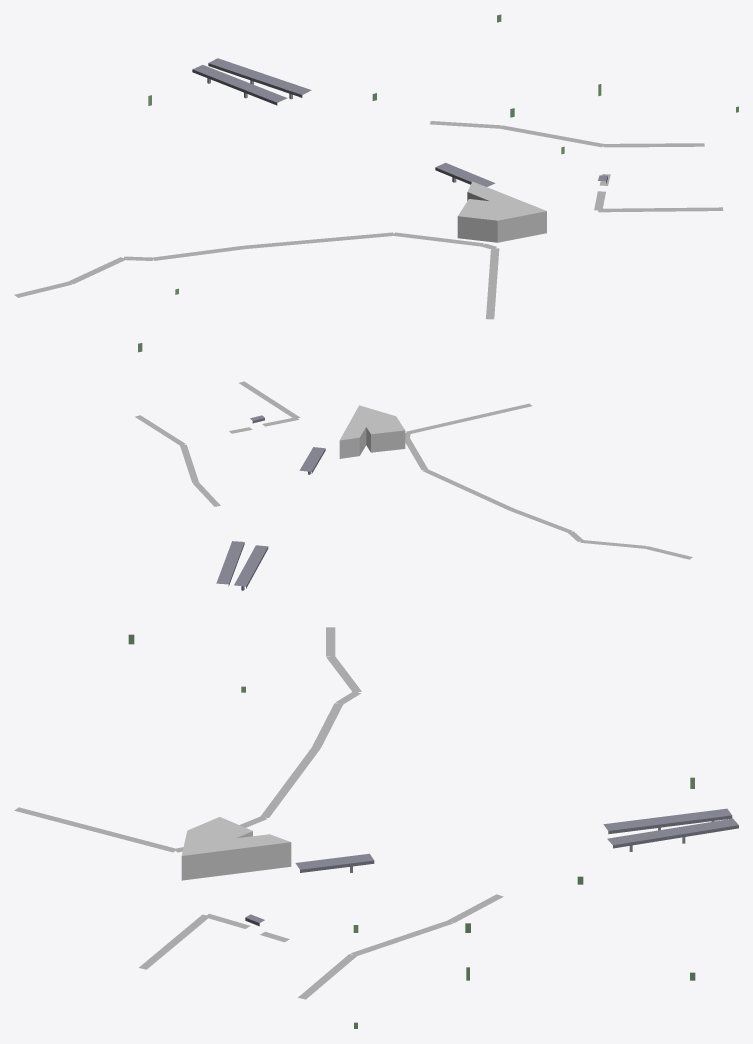
3 renders of one model, top to bottom at view 1: azimuth 30°, elevation 25°; view 2: azimuth 150°, elevation 25°; view 3: azimuth 270°, elevation 25°, orthographic. The views are drawn at different scales.
Bounding box in the file's own units: 505 × 16.37 × 388.
